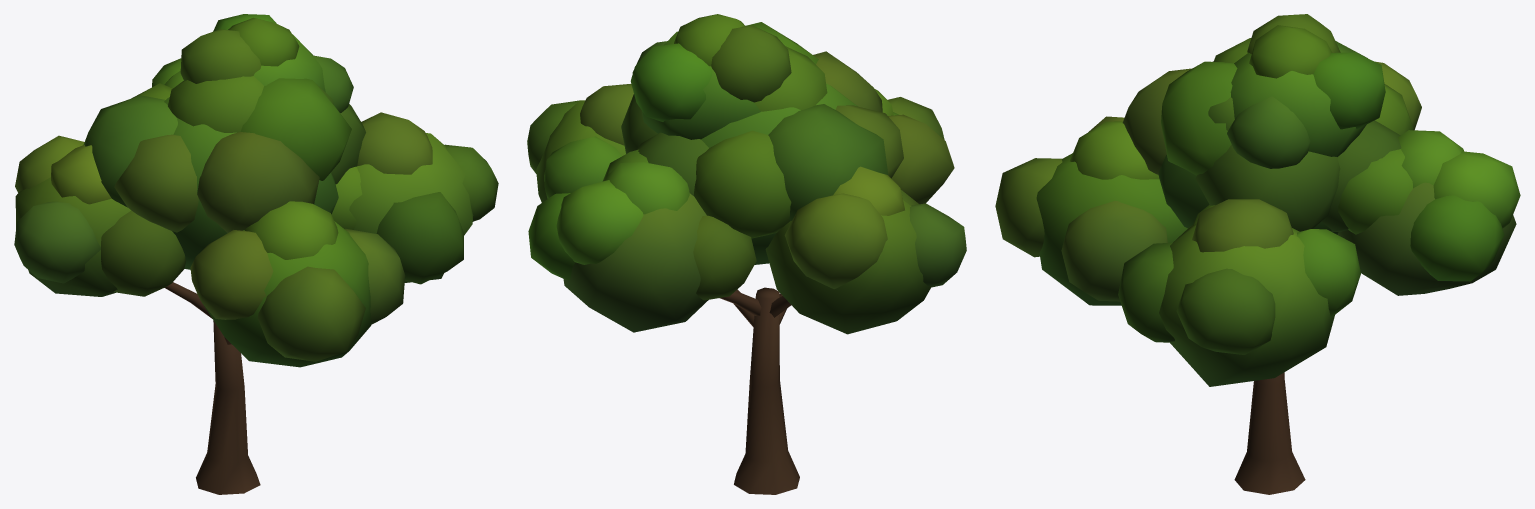
Rendered from SM_Tree_Oak_B.fbx.
3 renders of one model, left to right at view 1: azimuth 30°, elevation 25°; view 2: azimuth 150°, elevation 25°; view 3: azimuth 270°, elevation 25°, orthographic. The views are drawn at different scales.
Visible parts, largest first — view 1: SM_Tree_Oak_B; view 2: SM_Tree_Oak_B; view 3: SM_Tree_Oak_B.
Part boxes in pixels (left/top/right/bottom): SM_Tree_Oak_B: left=14, top=14, right=498, bottom=494; SM_Tree_Oak_B: left=527, top=14, right=966, bottom=494; SM_Tree_Oak_B: left=995, top=14, right=1520, bottom=494.
Size of what is drawn, in the model's own units: 9.55 by 9.22 by 9.3.
